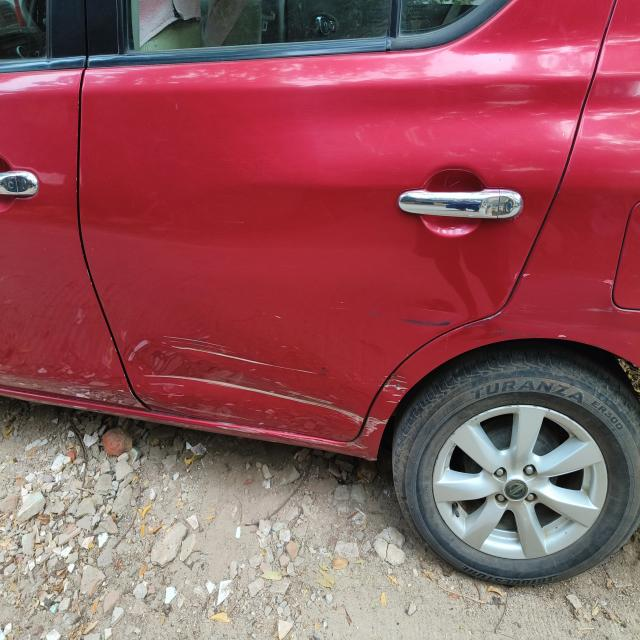scratch: (139, 332, 358, 449), (376, 365, 410, 407), (360, 411, 387, 440)
